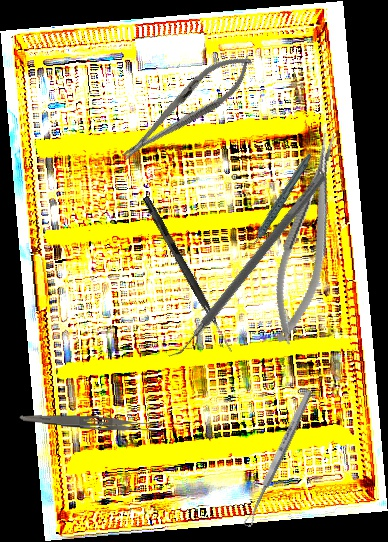Dressing Forceps: (18, 412, 161, 435)
Handpiece: (227, 151, 330, 252)
Hook Surgical: (140, 195, 237, 354)
Needle Holder: (258, 130, 358, 349), (111, 43, 262, 172)
Spatula Surgical: (164, 165, 327, 366)
Surgical Spoon: (241, 388, 315, 529)
